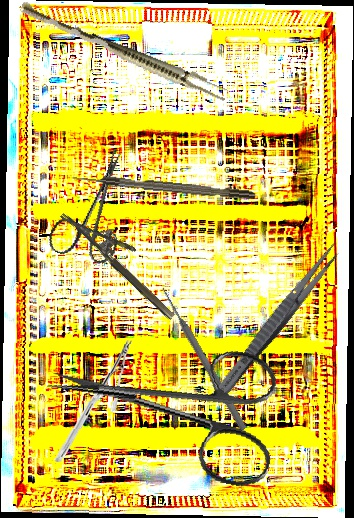Dressing Forceps: (208, 237, 346, 406)
Hook Surgical: (70, 171, 256, 202)
Iris Scissors: (35, 316, 290, 492), (45, 138, 148, 271)
Needle Holder: (60, 195, 189, 322), (54, 337, 133, 465)
Pusher: (157, 285, 250, 432)
Tissue Forceps: (16, 0, 231, 104)
